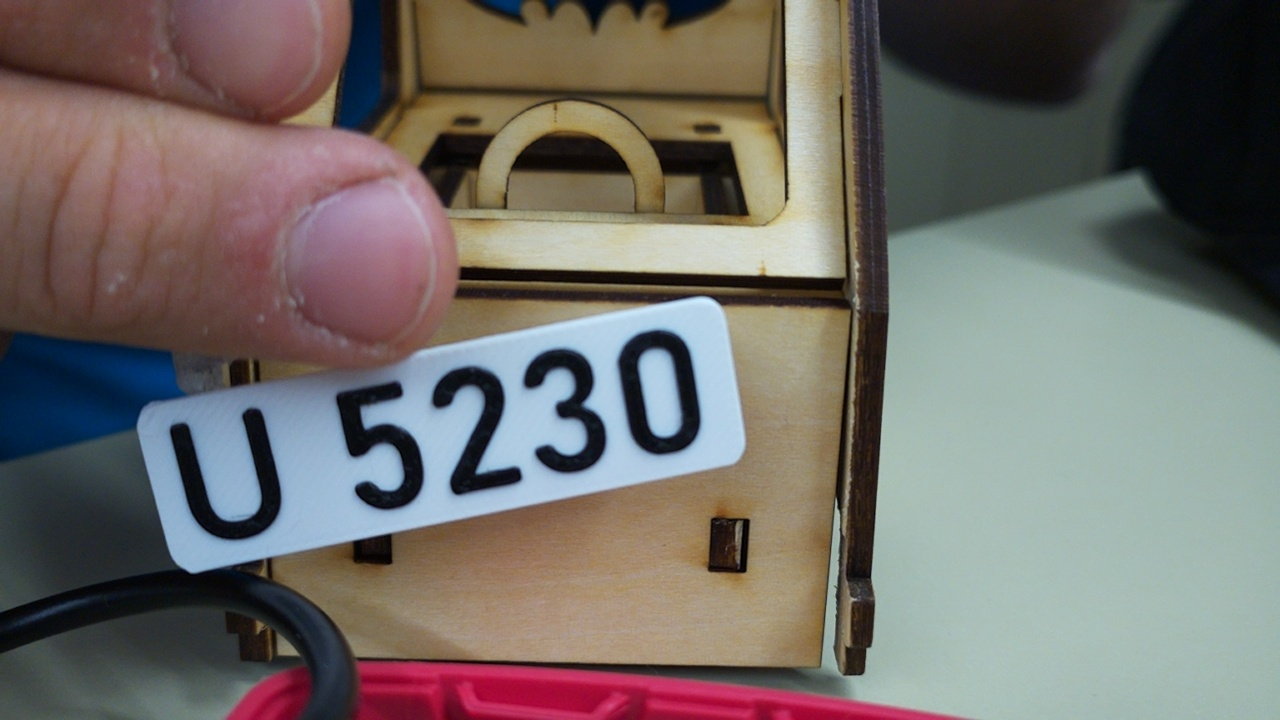license_plate: (135, 295, 749, 576)
